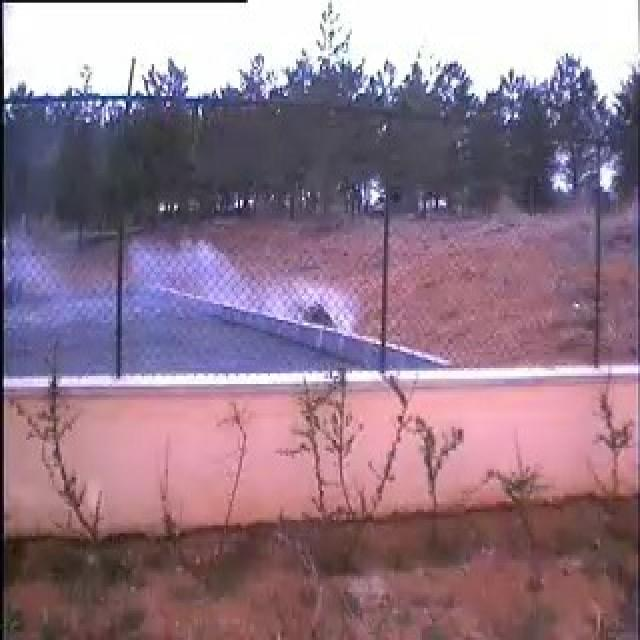smoke: (62, 229, 360, 366)
